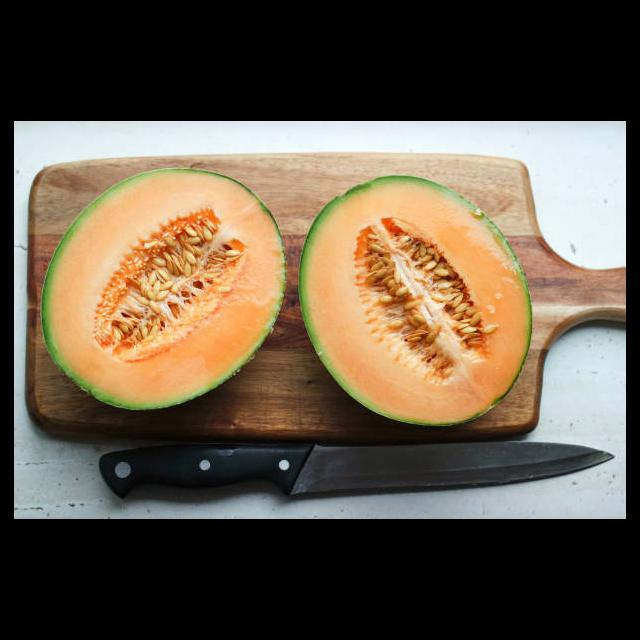Hami Melon: (41, 166, 287, 412), (299, 176, 533, 428)
